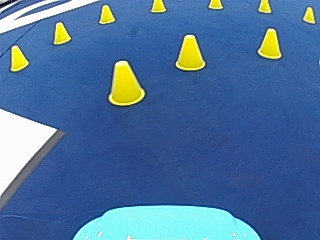cone: (106, 58, 144, 105), (174, 32, 206, 70), (257, 26, 282, 58), (9, 44, 28, 71), (52, 21, 70, 44), (98, 3, 115, 24), (302, 6, 315, 23), (151, 0, 165, 13), (257, 0, 271, 13), (208, 0, 222, 9)
